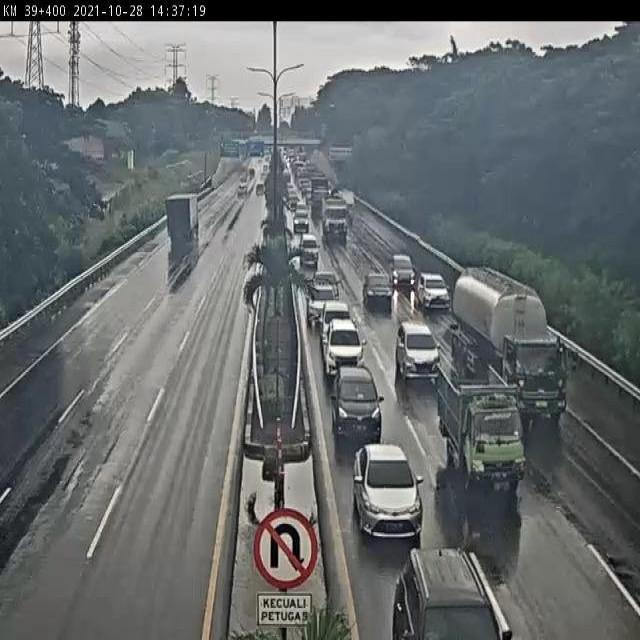car: (395, 547, 503, 639), (353, 444, 422, 547), (338, 359, 381, 443), (395, 323, 439, 381), (321, 317, 364, 376), (306, 284, 340, 326), (417, 271, 451, 311), (361, 272, 392, 309), (385, 252, 414, 288), (297, 234, 318, 263)
truck: (452, 267, 567, 419), (438, 364, 525, 489), (317, 196, 351, 240)
